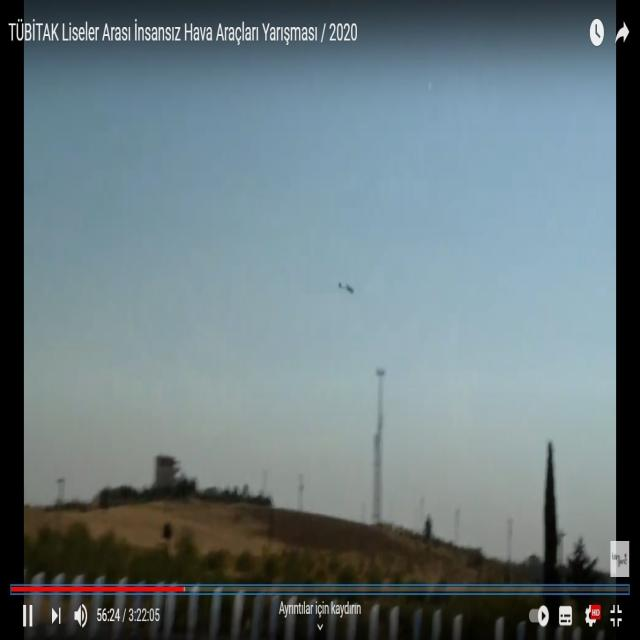iha: (337, 281, 355, 295)
